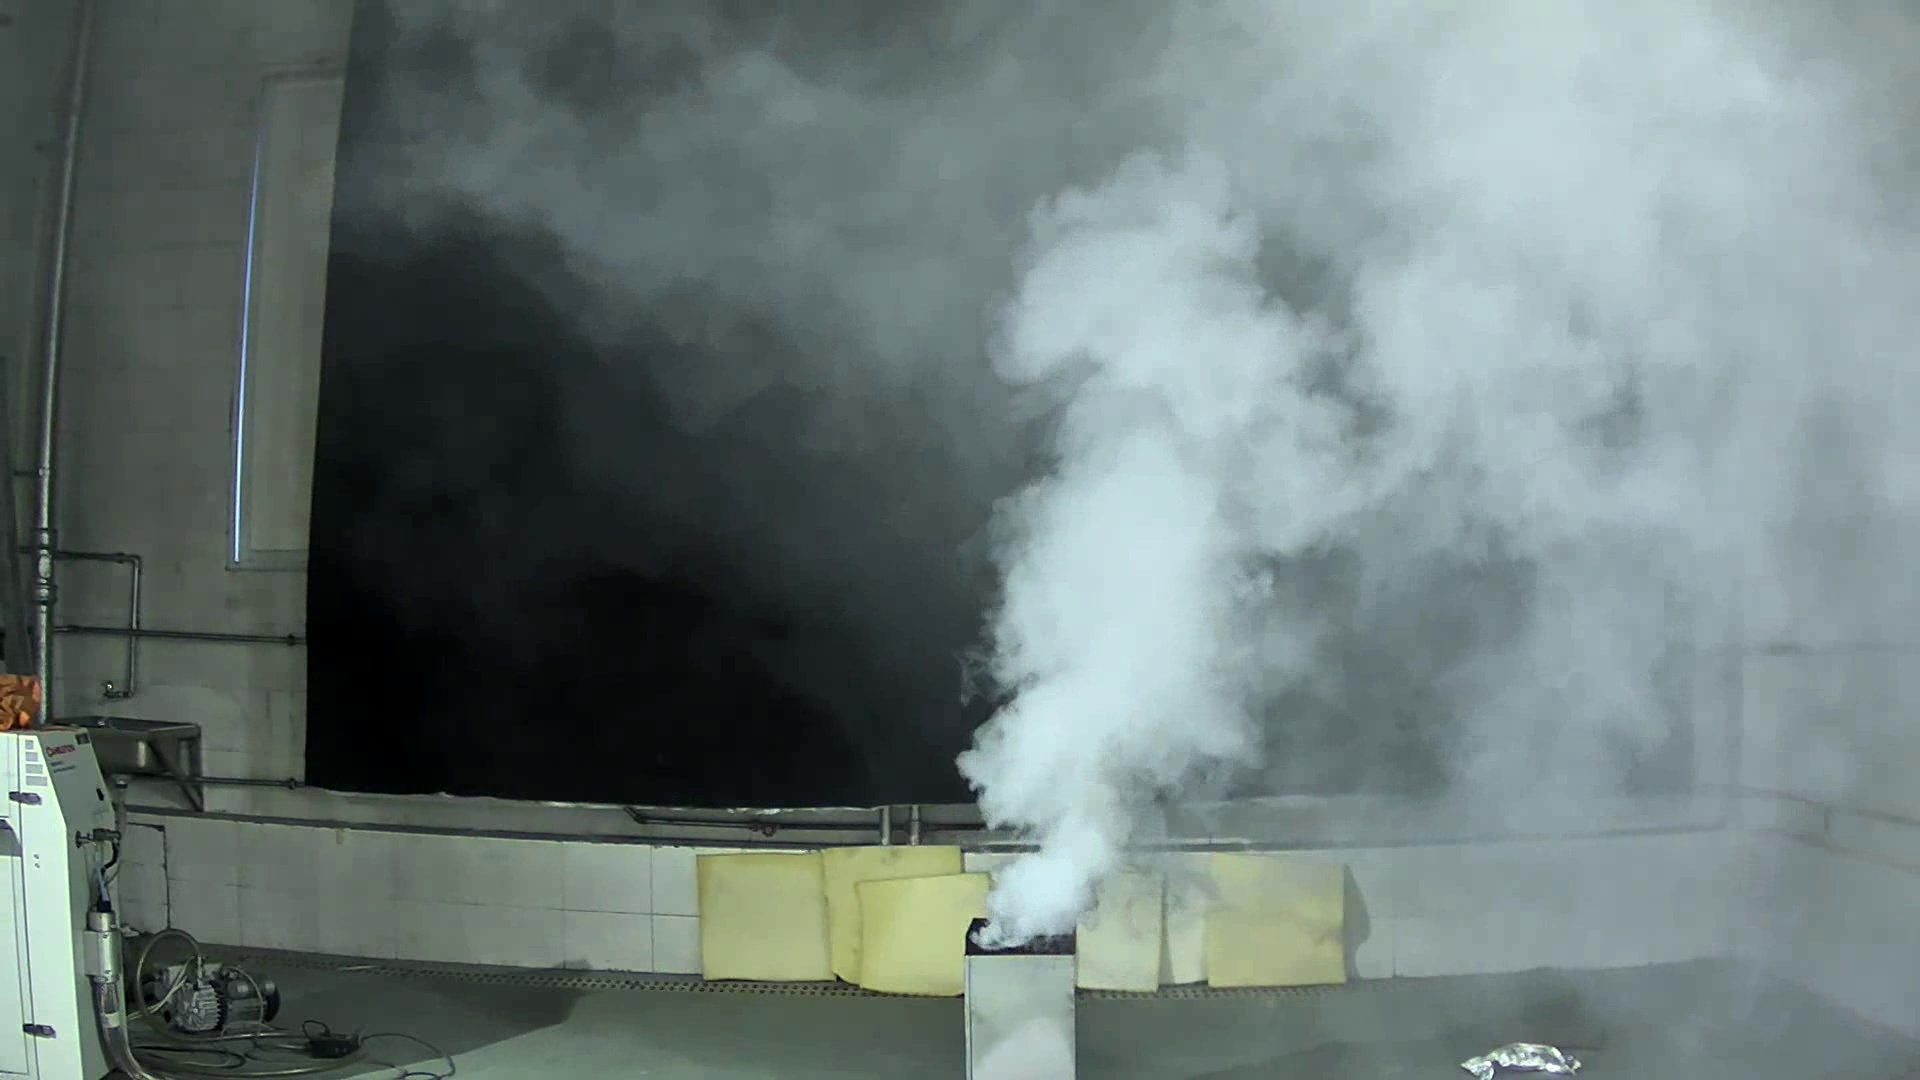smoke: (919, 70, 1515, 955)
